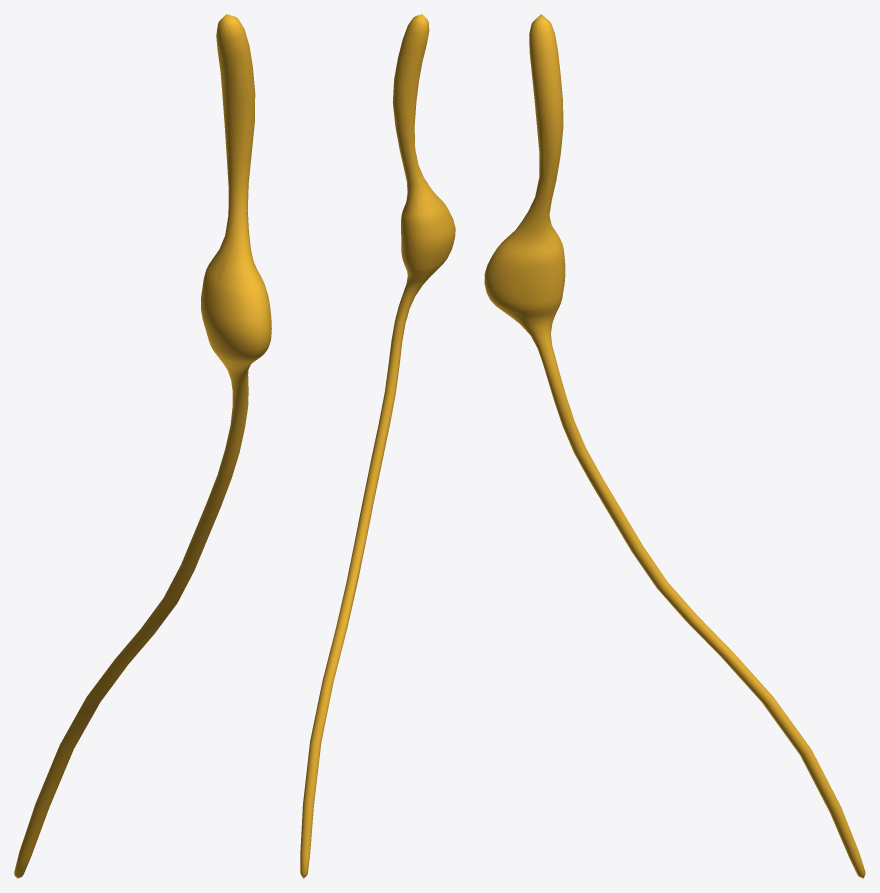
The model's file is nervoso-sensory-root-of-trigeminal-nerve-l.glb.
3 renders of one model, left to right at view 1: azimuth 30°, elevation 25°; view 2: azimuth 150°, elevation 25°; view 3: azimuth 270°, elevation 25°, orthographic. The views are drawn at different scales.
Visible parts, largest first — view 1: Sensory root of trigeminal nerve.l; view 2: Sensory root of trigeminal nerve.l; view 3: Sensory root of trigeminal nerve.l.
Boxes of the visible parts, <box> form: Sensory root of trigeminal nerve.l: <box>14,14,271,878</box>; Sensory root of trigeminal nerve.l: <box>300,14,455,878</box>; Sensory root of trigeminal nerve.l: <box>484,14,865,878</box>.
Bounding box in the file's own units: 0.00439 × 0.0668 × 0.0263.
